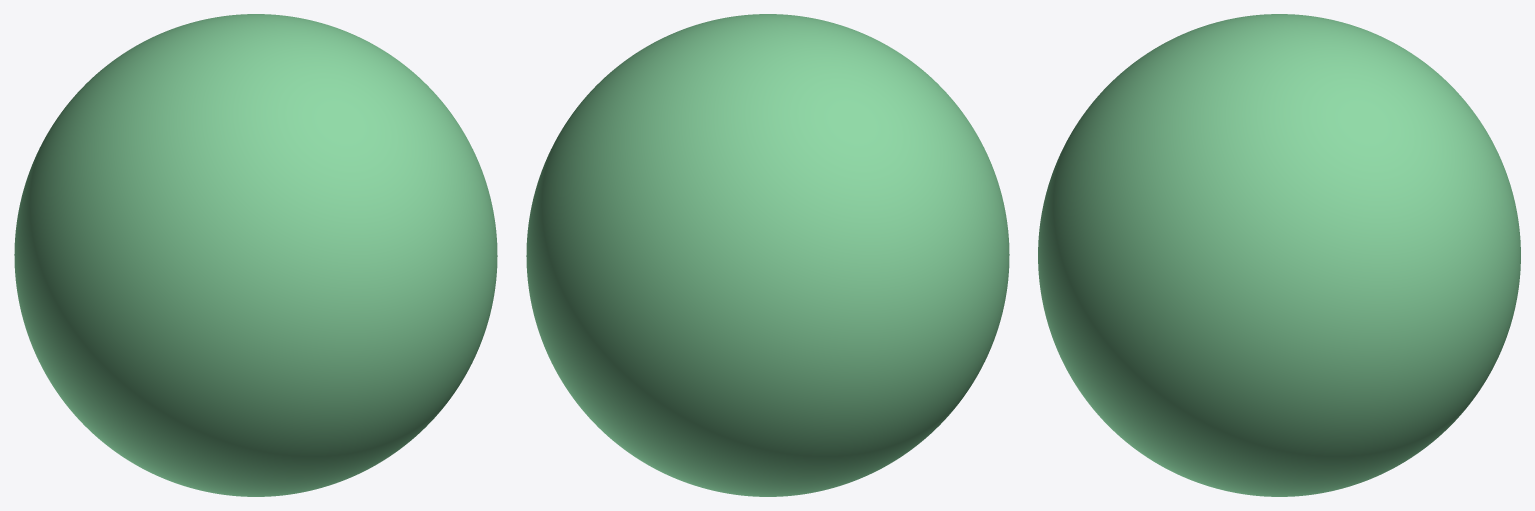
3 renders of one model, left to right at view 1: azimuth 30°, elevation 25°; view 2: azimuth 150°, elevation 25°; view 3: azimuth 270°, elevation 25°, orthographic.
Visible parts, largest first — view 1: Sphere; view 2: Sphere; view 3: Sphere.
Boxes of the visible parts, x1,y1,x2,y2 form: Sphere: (14, 14, 497, 496); Sphere: (526, 14, 1009, 496); Sphere: (1038, 14, 1520, 496).
Bounding box in the file's own units: 0.9999 × 0.9999 × 0.9999.
